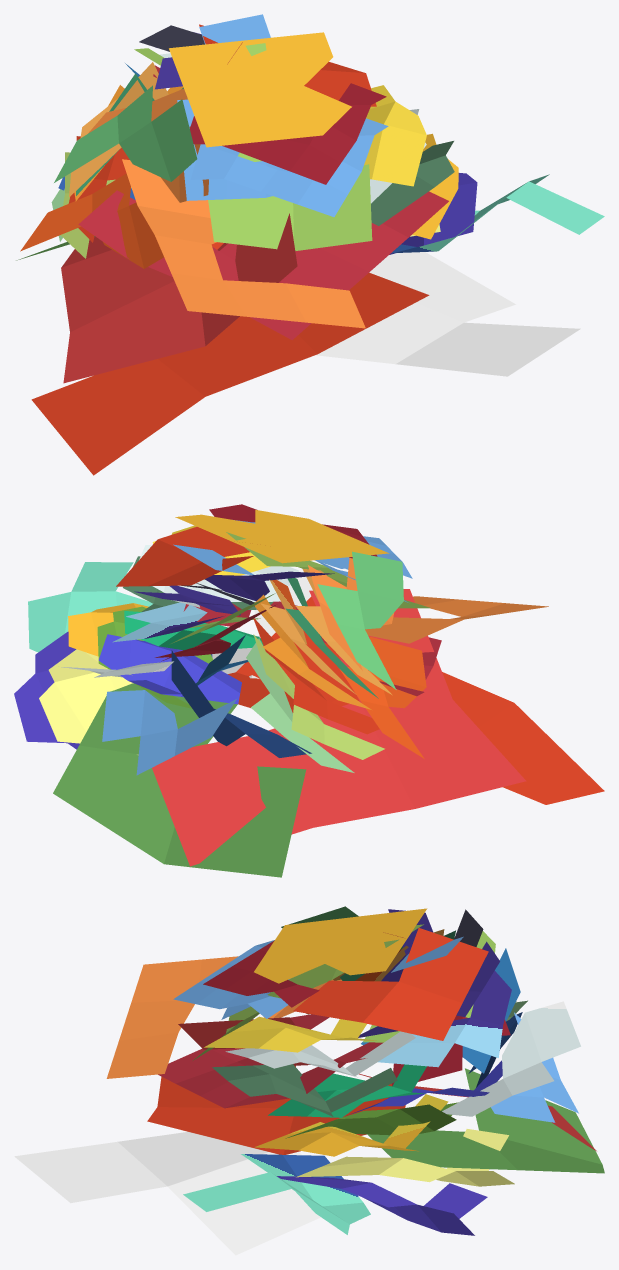
File: papelesCortados.003.fbx
3 renders of one model, top to bottom at view 1: azimuth 30°, elevation 25°; view 2: azimuth 150°, elevation 25°; view 3: azimuth 270°, elevation 25°, orthographic. The views are drawn at different scales.
Parts seen in each view (by area): view 1: papelesCortados.003; view 2: papelesCortados.003; view 3: papelesCortados.003.
Part boxes in pixels (x1=…): papelesCortados.003: x1=16, y1=14, x2=604, y2=475; papelesCortados.003: x1=14, y1=504, x2=604, y2=877; papelesCortados.003: x1=14, y1=906, x2=604, y2=1255.
Bounding box in the file's own units: 70.44 × 36.09 × 71.44.
